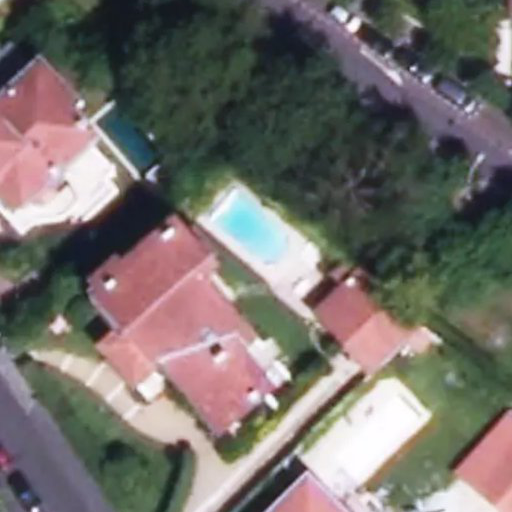pool: (212, 233, 308, 258)
